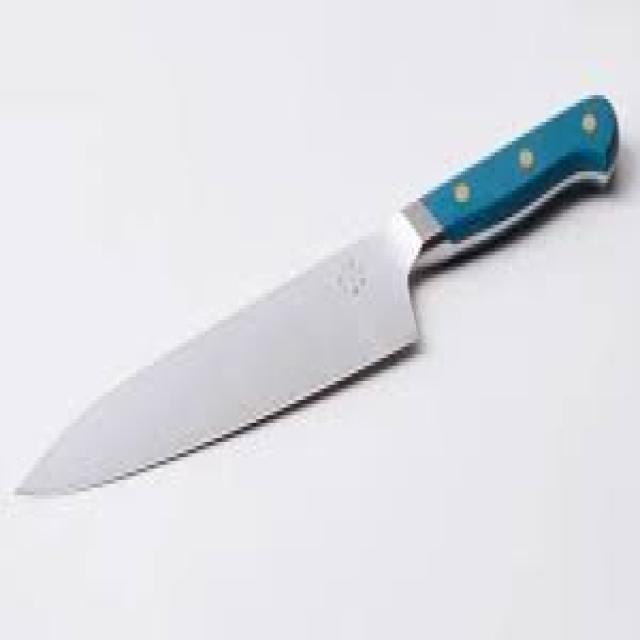Knife: (15, 95, 617, 491)
